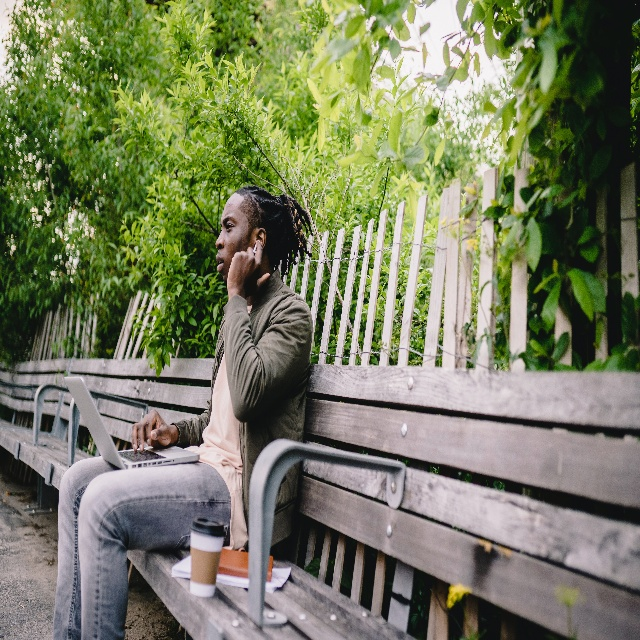Sin_guantes: (228, 240, 270, 290), (131, 410, 176, 450)
